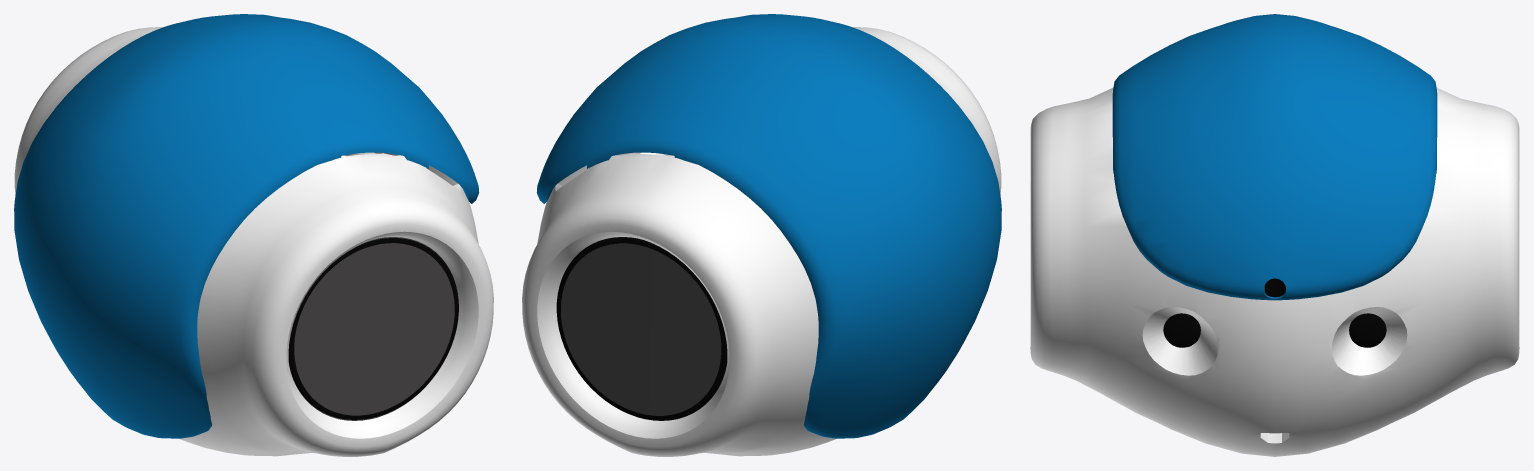
The model's file is HeadPitch.dae.
3 renders of one model, left to right at view 1: azimuth 30°, elevation 25°; view 2: azimuth 150°, elevation 25°; view 3: azimuth 270°, elevation 25°, orthographic. The views are drawn at different scales.
Visible parts, largest first — view 1: HeadPitch; view 2: HeadPitch; view 3: HeadPitch.
Boxes of the visible parts, x1=… form: HeadPitch: x1=14, y1=14, x2=493, y2=456; HeadPitch: x1=522, y1=14, x2=1001, y2=456; HeadPitch: x1=1030, y1=14, x2=1519, y2=456.
Size of the model in its own units: 1.19 by 1.33 by 1.14.
Materials: 1 (1 with a texture image).
